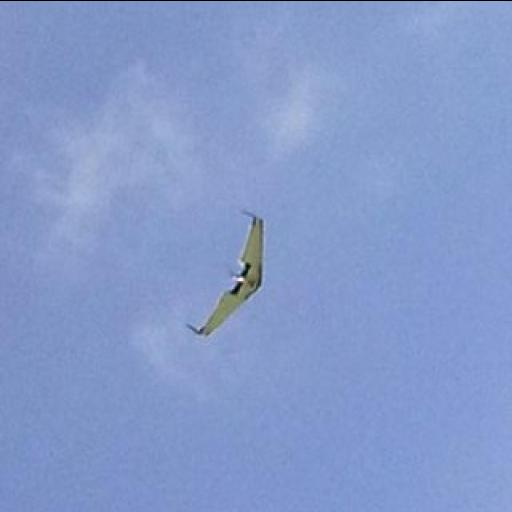uav: (186, 205, 274, 341)
